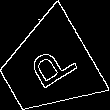P_SW: (18, 39, 78, 96)
